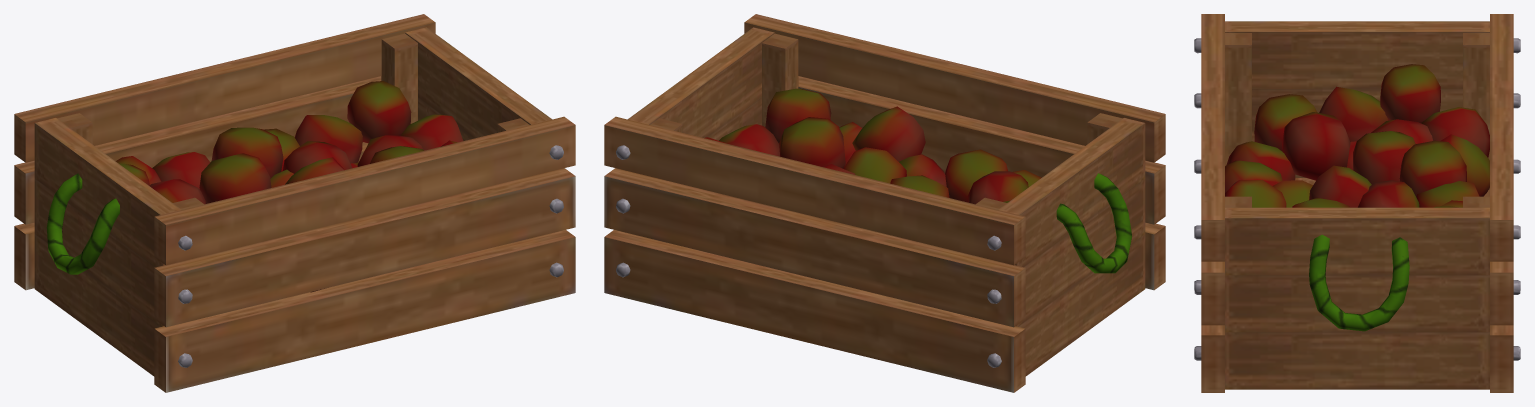
Rendered from p_FarmCrate_Apple.glb.
The picture shows the model from 3 angles, left to right: view 1: azimuth 30°, elevation 25°; view 2: azimuth 150°, elevation 25°; view 3: azimuth 270°, elevation 25°; orthographic projection. The views are drawn at different scales.
Visible parts, largest first — view 1: FarmCrate_Apple; view 2: FarmCrate_Apple; view 3: FarmCrate_Apple.
Part boxes in pixels (left/top/right/bottom): FarmCrate_Apple: left=14, top=14, right=575, bottom=392; FarmCrate_Apple: left=604, top=14, right=1165, bottom=392; FarmCrate_Apple: left=1194, top=14, right=1520, bottom=392.
Size of the model in its own units: 0.7138 by 0.2438 by 0.4142.
3 materials, 3 textured.
